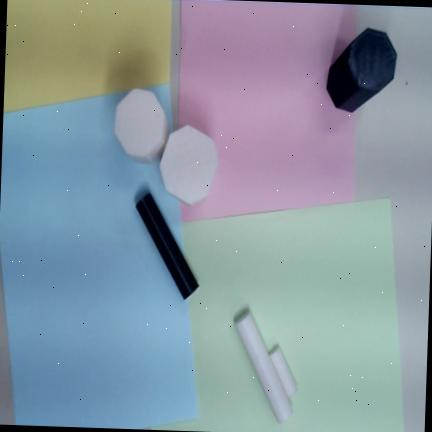Cilindro: (135, 193, 200, 301), (235, 311, 293, 424), (270, 346, 298, 398)
Prisma_hexagonal: (326, 27, 398, 113), (160, 124, 219, 205), (114, 88, 170, 166)
